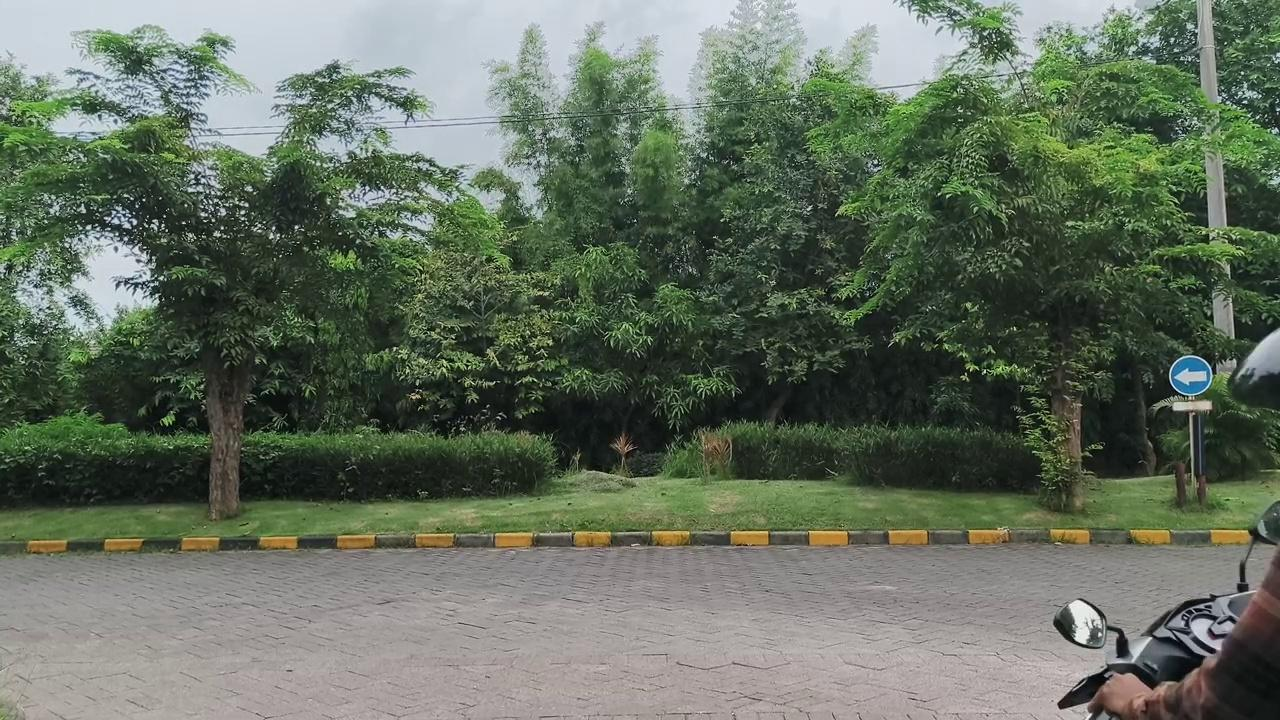Helmet: (1090, 551, 1279, 719)
Motor: (1053, 502, 1279, 708)
